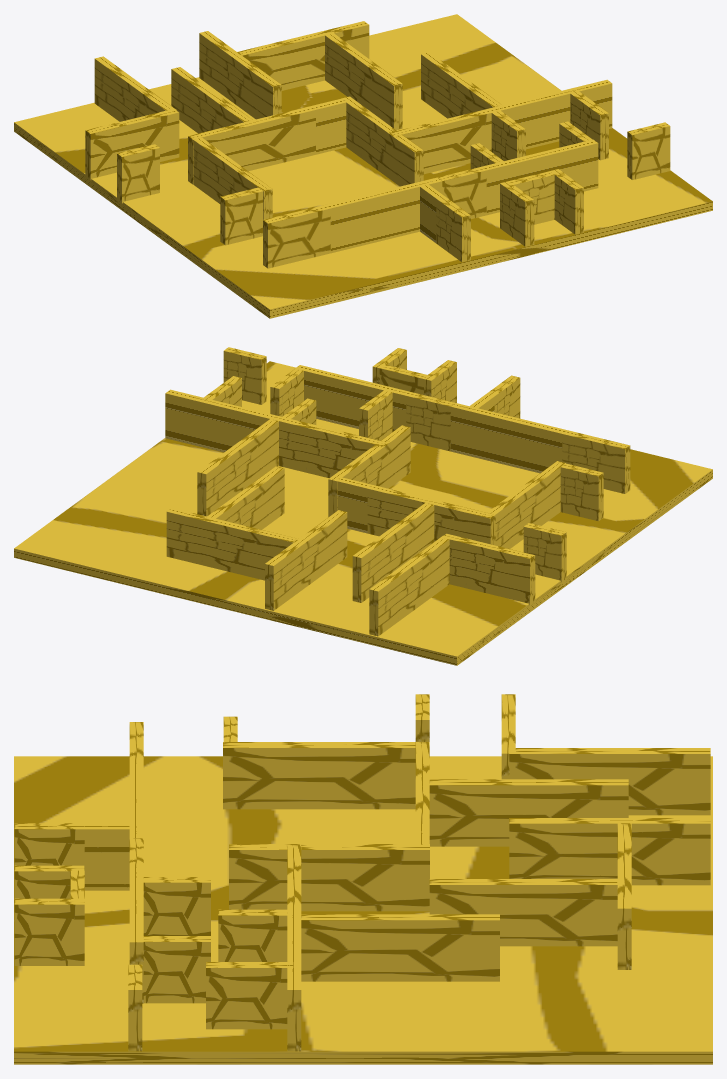
Rendered from Pyramide labirtint.fbx.
3 renders of one model, top to bottom at view 1: azimuth 30°, elevation 25°; view 2: azimuth 150°, elevation 25°; view 3: azimuth 270°, elevation 25°, orthographic. The views are drawn at different scales.
Visible parts, largest first — view 1: pCube30; view 2: pCube30; view 3: pCube30.
Part boxes in pixels (x1,y1,x2,y2): pCube30: [14, 14, 712, 318]; pCube30: [14, 347, 712, 665]; pCube30: [14, 694, 712, 1064].
Bounding box in the file's own units: 10.02 × 1.17 × 10.
